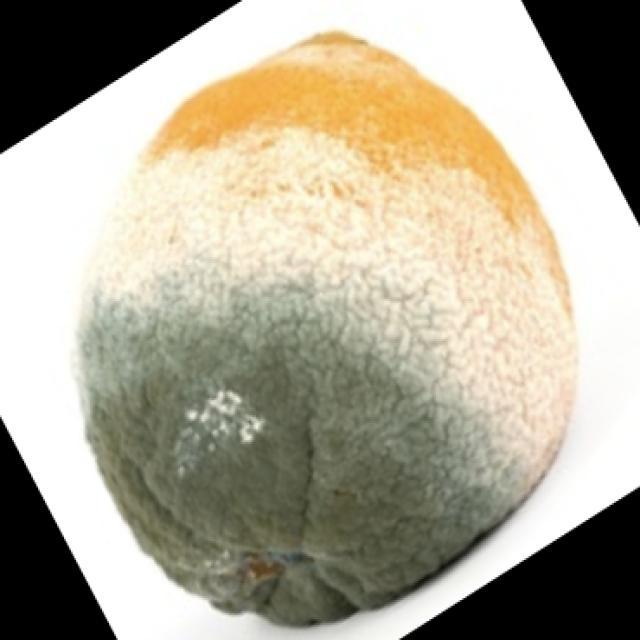sangat-busuk: (78, 34, 575, 625)
